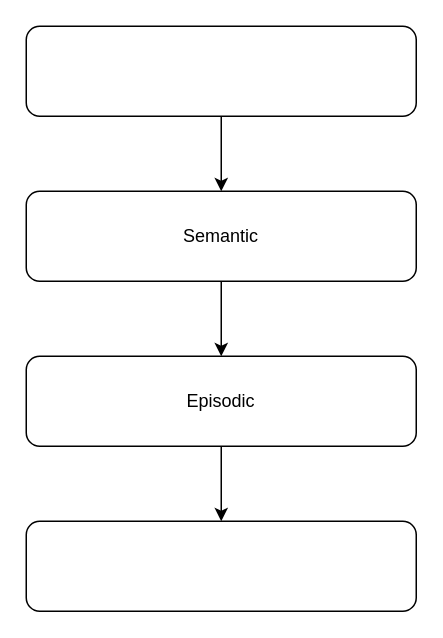
Some shapes in this 443 by 638 pixel diagram are drawn without their labels. Here are the shapes that lost their labels. From the top down, the box of each, then its label:
(25, 25, 416, 116): Working
(25, 520, 416, 611): Decision
